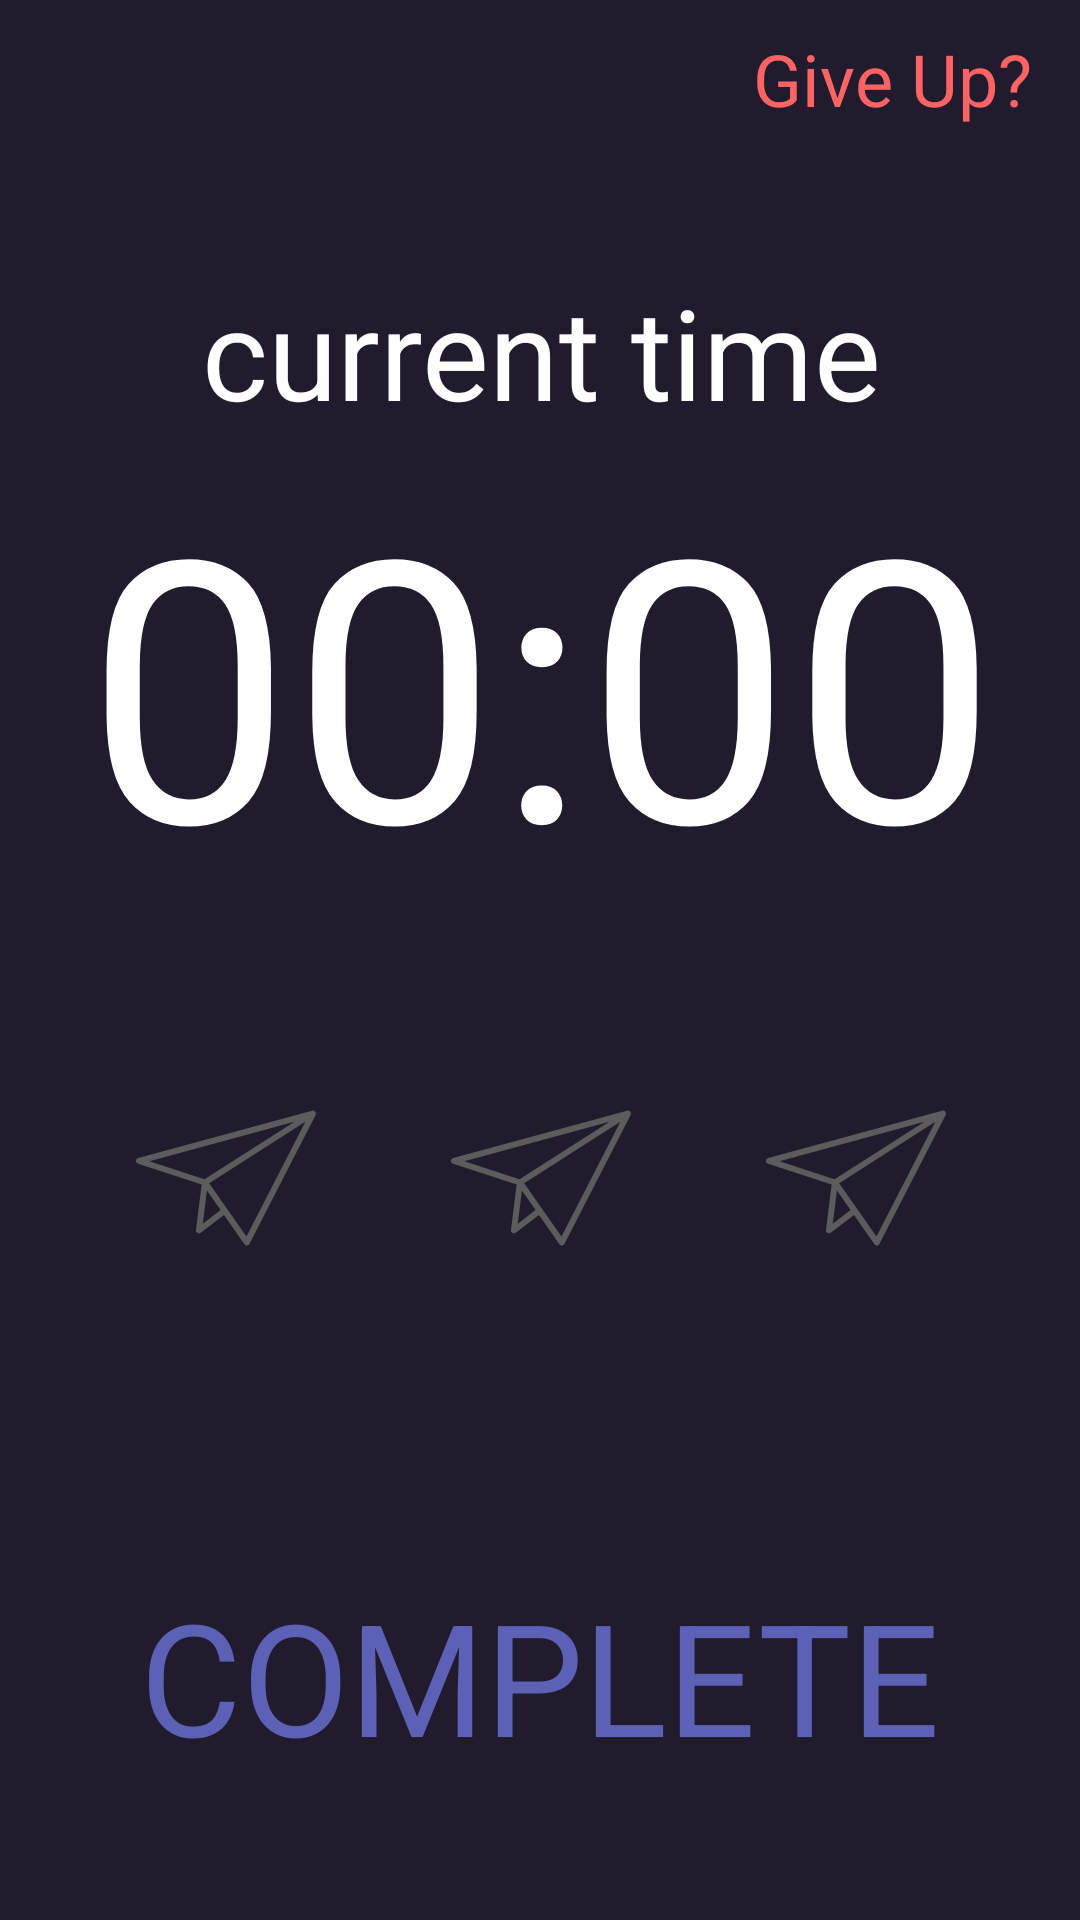

Where icons sit on this 1080px×1920px app screen, as bbox(x1, y1, x2, y2):
paper plane: bbox(136, 1110, 316, 1246), bbox(451, 1110, 631, 1246), bbox(766, 1110, 946, 1246)
